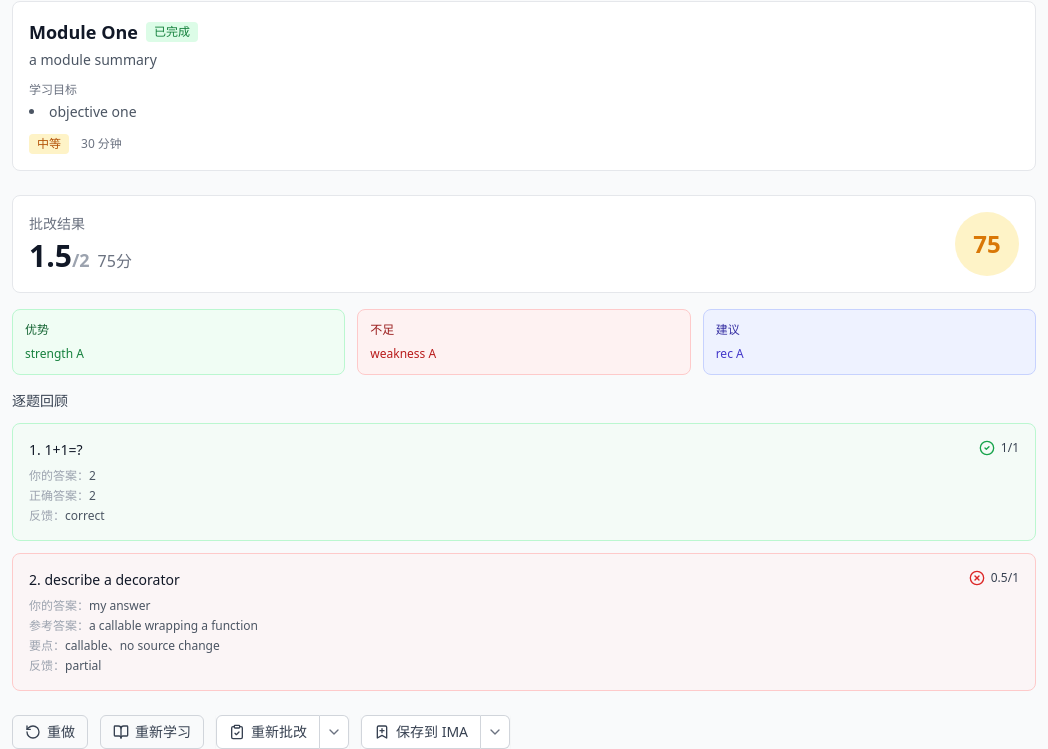
ModuleDetail › "重新学习" returns to the content tab
(page scrolled)
Expected: the text "批改结果" is shown, [29,214,85,233]
Click the button "重新学习": (152, 732) [100,715,204,748]
(page scrolled)
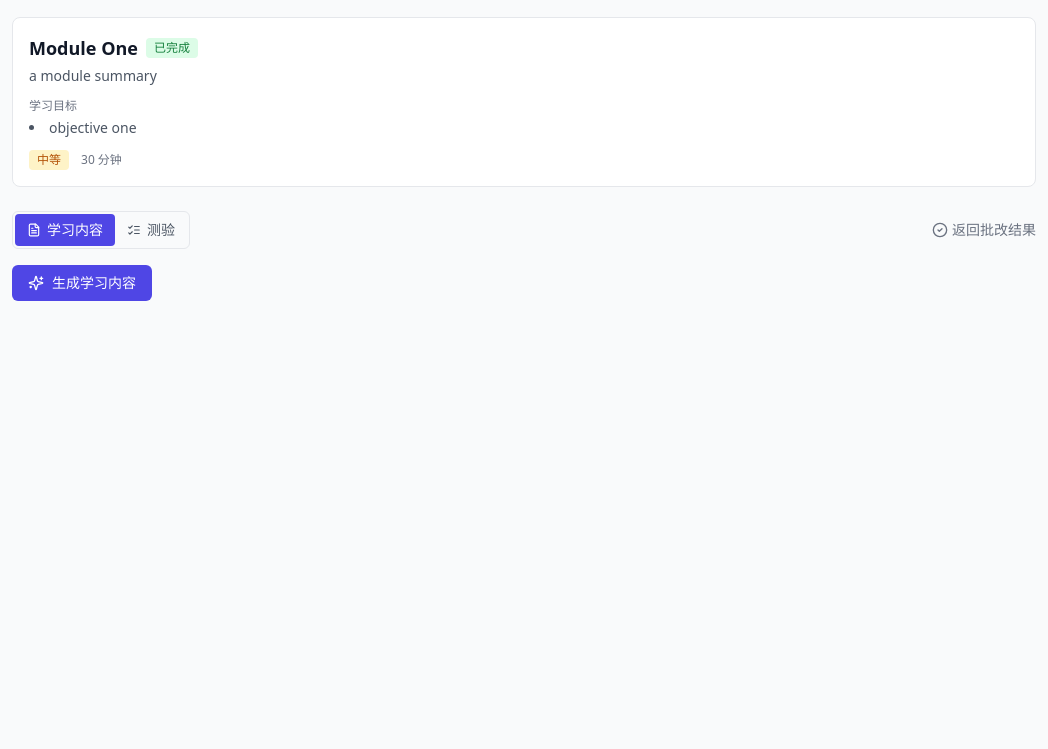
Result: the button "生成学习内容" is shown at [12,265,152,301]
